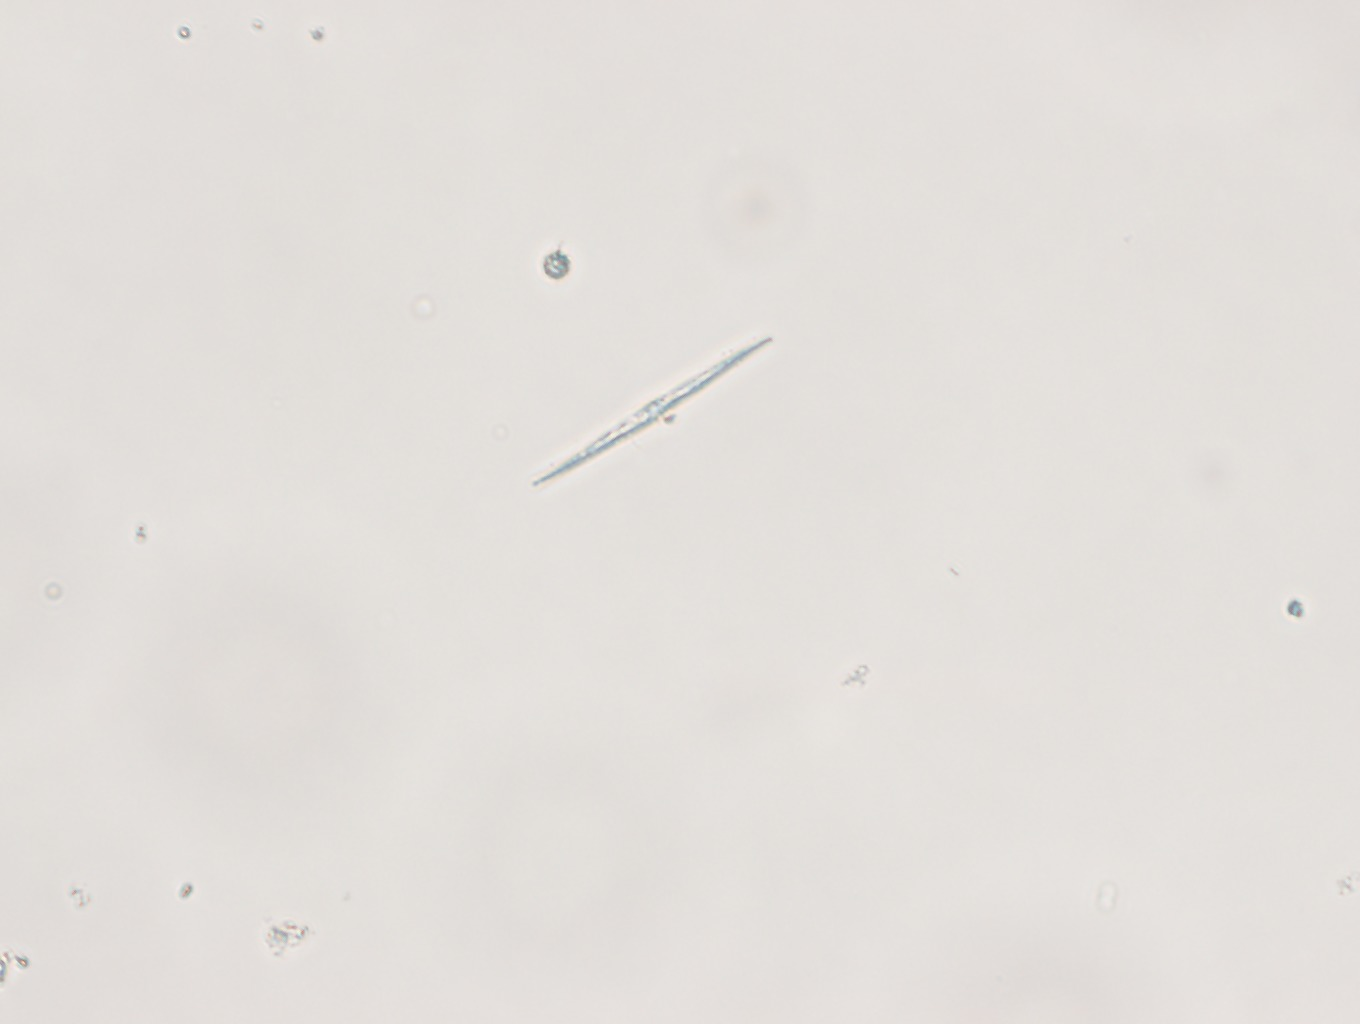pleurosigma pelagicum: (515, 310, 792, 490)
